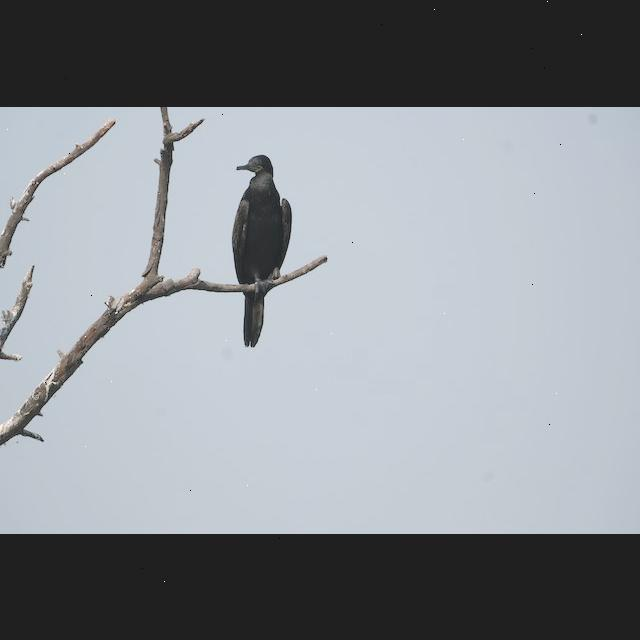cormorant: (230, 147, 296, 349)
